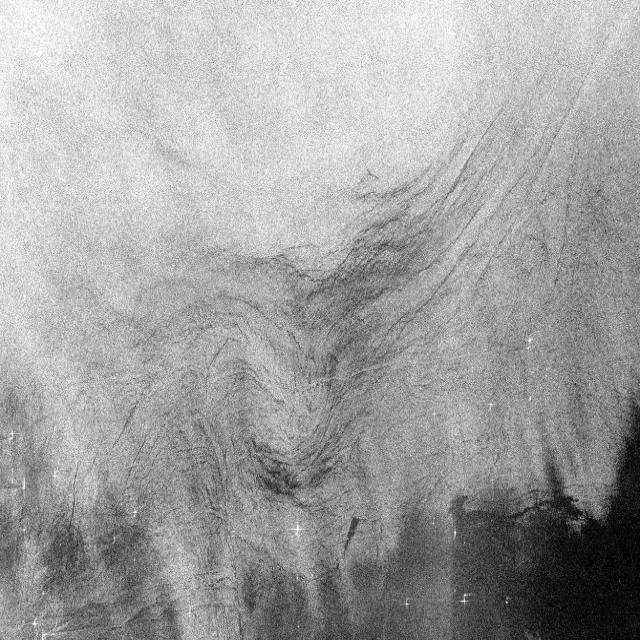look-alike: (451, 471, 637, 640), (234, 276, 369, 503), (174, 409, 257, 634), (40, 426, 89, 602), (110, 406, 148, 509)
oil-spill: (342, 512, 362, 566)
ship: (288, 516, 306, 540), (486, 397, 496, 411), (403, 596, 412, 609), (430, 407, 439, 420)
